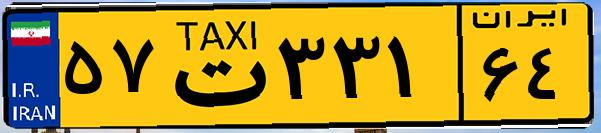1: (385, 28, 445, 110)
3: (270, 28, 330, 110), (330, 28, 385, 110)
4: (525, 38, 570, 115)
5: (57, 26, 110, 100)
6: (475, 38, 525, 113)
7: (110, 28, 158, 98)
ت: (158, 12, 270, 120)
